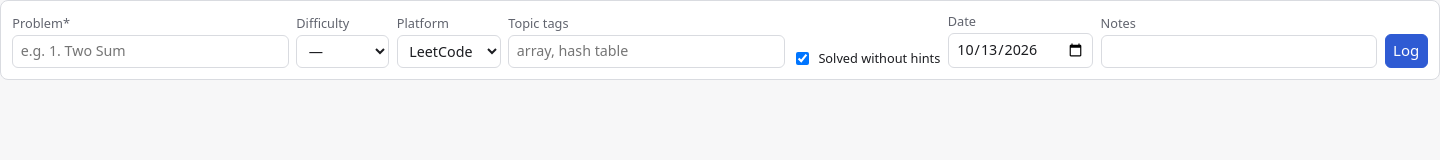
Scenario: LeetCodeForm › requires a problem name
This screenshot has width=1440, height=160.
Click the button "Log" at (1406, 51), box [1385,34,1428,68]
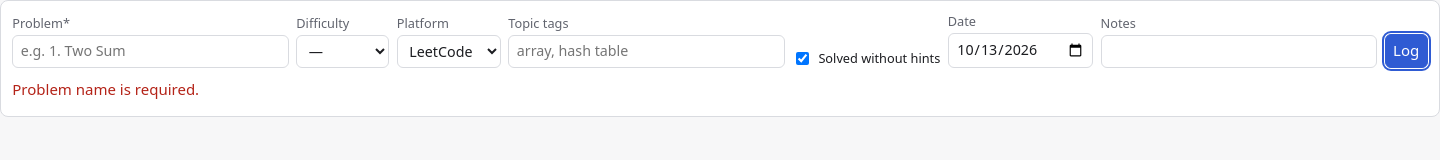
Expected: the message "Problem name is required." is shown, [12,79,199,99]
